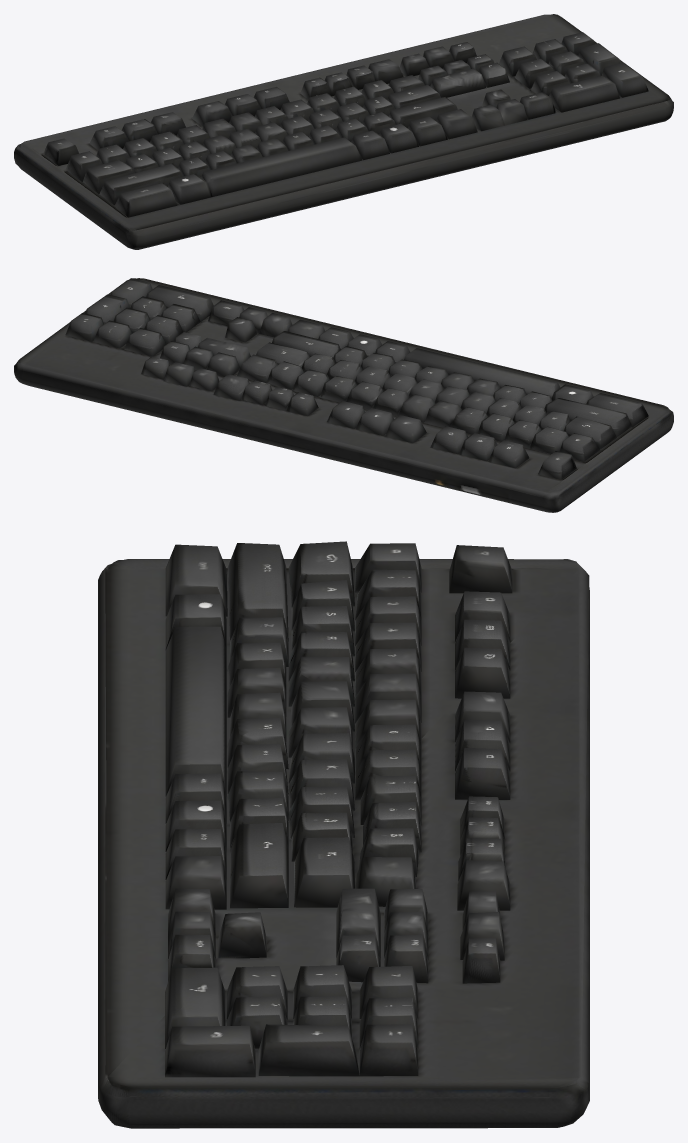
Rendered from ENV_keyboard_v001.fbx.
3 views of the same model, one above another, from view 1: azimuth 30°, elevation 25°; view 2: azimuth 150°, elevation 25°; view 3: azimuth 270°, elevation 25° (orthographic). The views are drawn at different scales.
Parts seen in each view (by area): view 1: tripo_node_763341c5-c5d6-4d02-9ac8-b1faf8ab3abd; view 2: tripo_node_763341c5-c5d6-4d02-9ac8-b1faf8ab3abd; view 3: tripo_node_763341c5-c5d6-4d02-9ac8-b1faf8ab3abd.
Boxes of the visible parts, box(x1,y1,x2,y2) form: tripo_node_763341c5-c5d6-4d02-9ac8-b1faf8ab3abd: box(14, 14, 673, 249); tripo_node_763341c5-c5d6-4d02-9ac8-b1faf8ab3abd: box(14, 278, 673, 512); tripo_node_763341c5-c5d6-4d02-9ac8-b1faf8ab3abd: box(98, 541, 589, 1128).
Size of the model in its own units: 99.8 by 7.01 by 38.96.
1 material, 1 textured.
